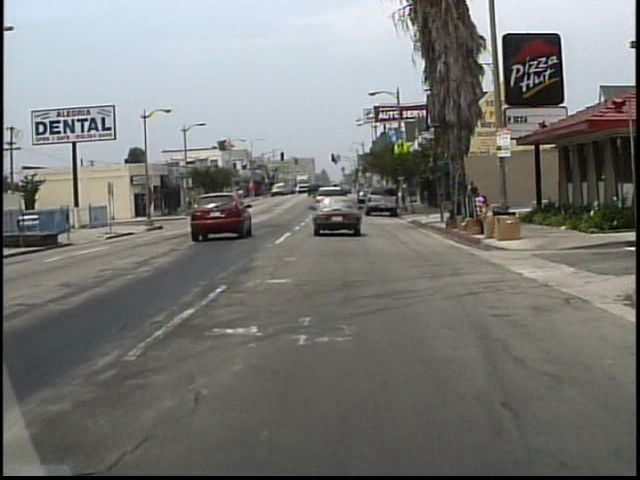person: (472, 181, 482, 212), (464, 182, 472, 208)
